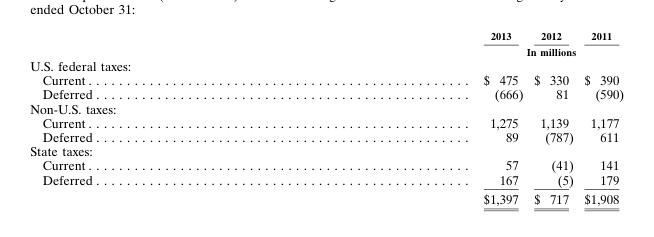table: (29, 29, 623, 206)
table column: (29, 29, 287, 206), (287, 29, 527, 206), (527, 29, 578, 206), (578, 29, 623, 206)
table column header: (29, 29, 623, 57)
table projected row header: (29, 57, 623, 72), (29, 101, 623, 115), (29, 143, 623, 157)
table row: (29, 188, 623, 206), (29, 172, 623, 188), (29, 57, 623, 72), (29, 86, 623, 101), (29, 157, 623, 172), (29, 29, 623, 43), (29, 43, 623, 57), (29, 72, 623, 86), (29, 101, 623, 115), (29, 115, 623, 129), (29, 129, 623, 143), (29, 143, 623, 157)
table spanning cell: (287, 43, 623, 57)
